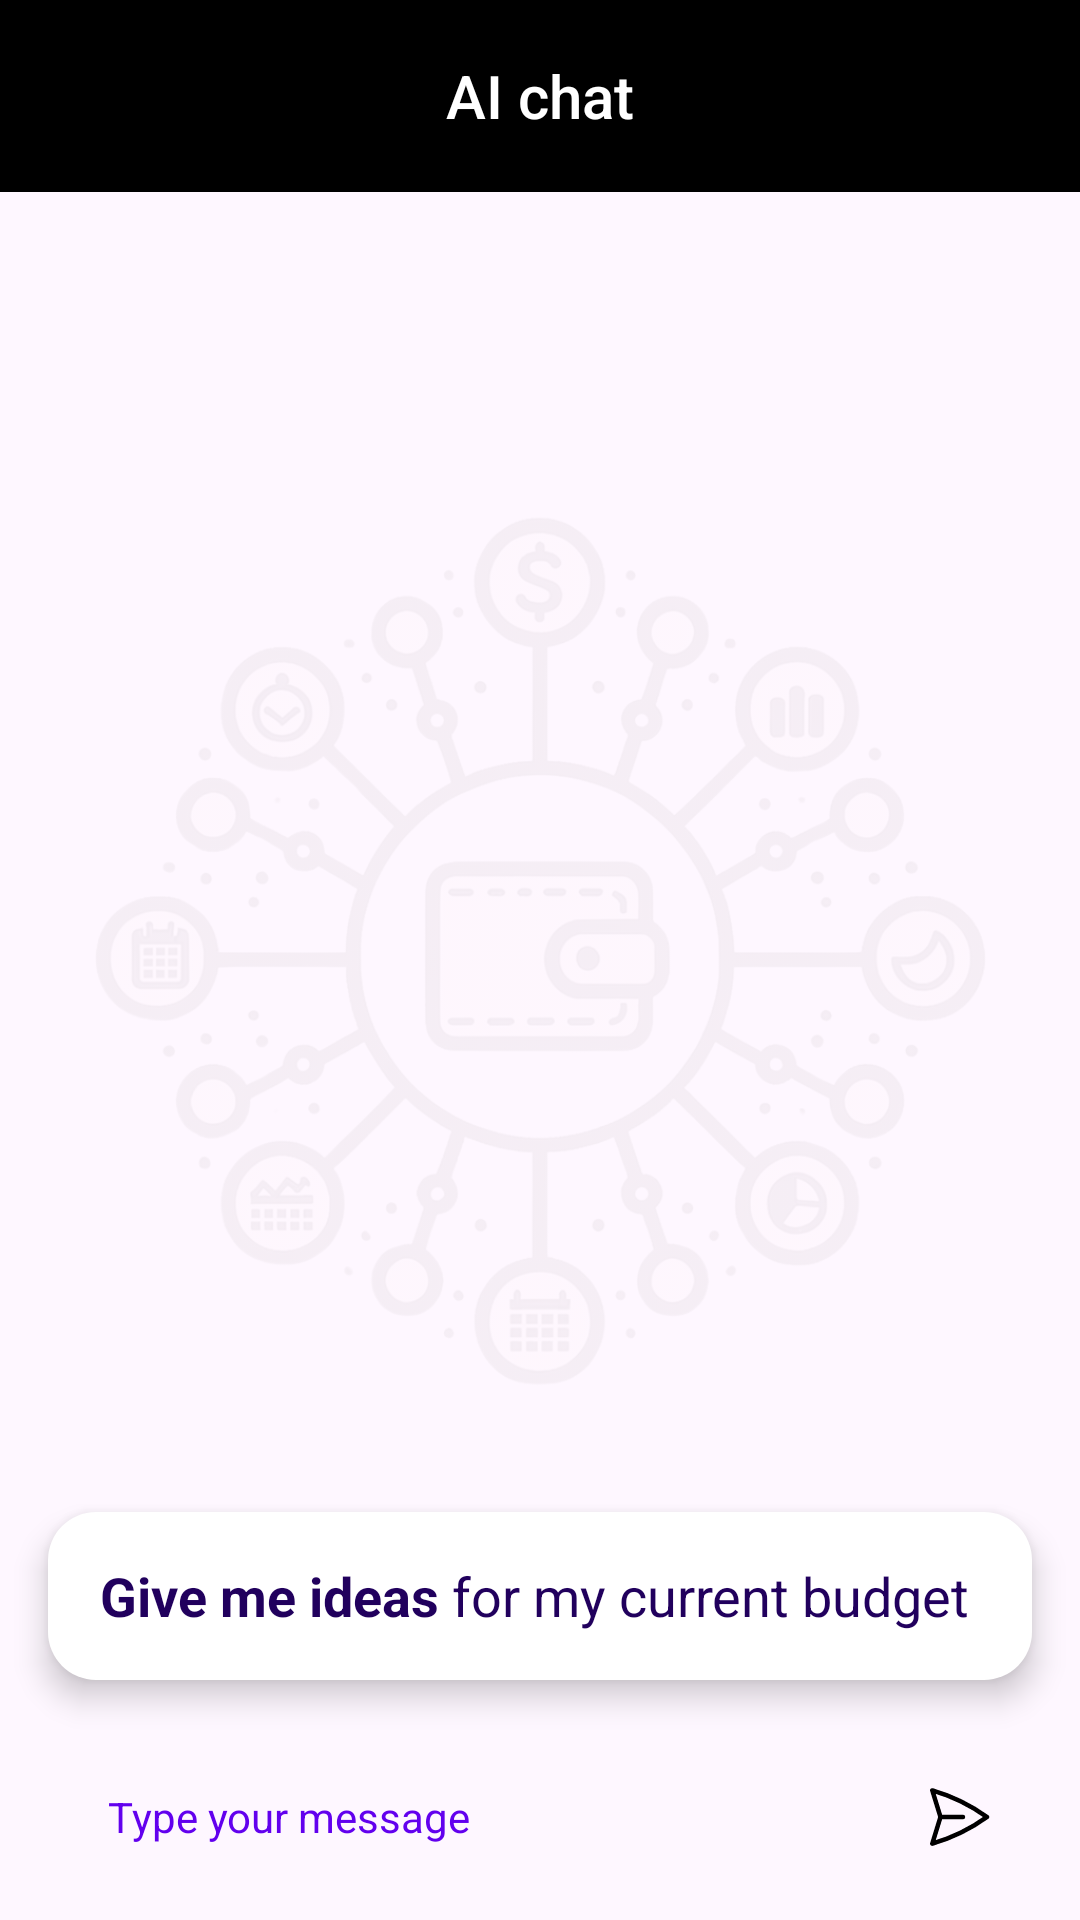

Icon bounding boxes for this 1080 × 1920 phone screenshot, format (x1, y1, x2, y2):
Send: (930, 1788, 990, 1846)
